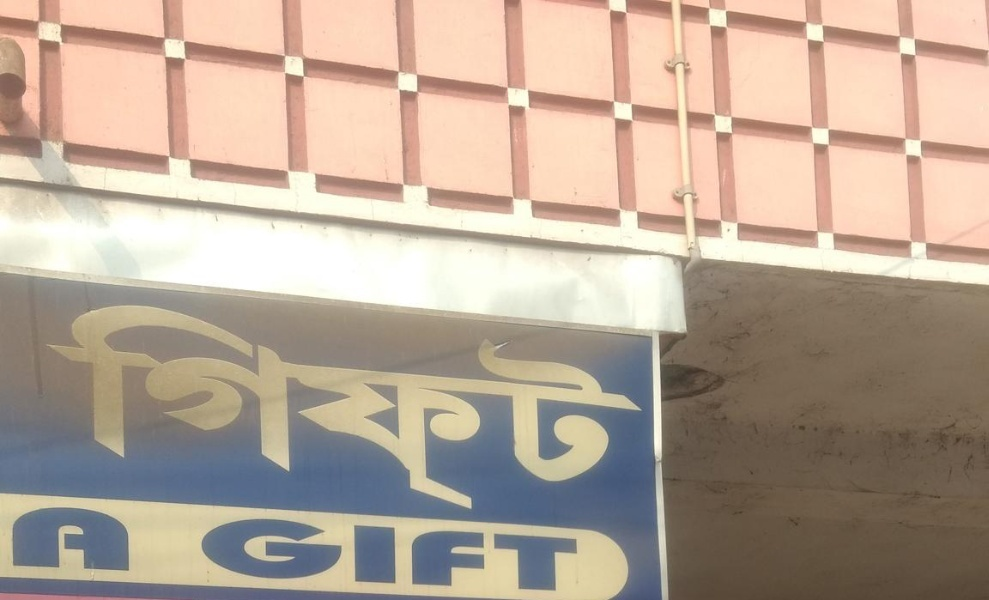text: (49, 291, 64, 524), (65, 291, 80, 524), (81, 291, 96, 524), (97, 291, 112, 524), (113, 291, 128, 524), (129, 291, 144, 524), (145, 291, 160, 524), (161, 291, 176, 524), (177, 291, 192, 524), (193, 291, 208, 524), (209, 291, 224, 524), (225, 291, 240, 524), (241, 291, 256, 524), (257, 291, 272, 524), (273, 291, 288, 524), (289, 291, 304, 524), (305, 291, 320, 524), (321, 291, 336, 524), (337, 291, 352, 524), (353, 291, 368, 524), (369, 291, 384, 524), (385, 291, 400, 524), (401, 291, 416, 524), (417, 291, 432, 524), (433, 291, 448, 524), (449, 291, 464, 524), (465, 291, 480, 524), (481, 291, 496, 524), (497, 291, 512, 524), (513, 291, 528, 524), (529, 291, 544, 524), (545, 291, 560, 524), (561, 291, 576, 524), (577, 291, 592, 524), (593, 291, 608, 524), (609, 291, 624, 524), (625, 291, 640, 524), (641, 291, 656, 524), (1, 8, 16, 139), (17, 8, 32, 139), (33, 8, 44, 139), (209, 504, 224, 600), (225, 504, 240, 600), (241, 504, 256, 600), (257, 504, 272, 600), (273, 504, 288, 600), (289, 504, 304, 600), (305, 504, 320, 600), (321, 504, 336, 600), (337, 504, 352, 600), (353, 504, 368, 600), (369, 504, 384, 600), (385, 504, 400, 600), (401, 504, 416, 600), (417, 504, 432, 600), (433, 504, 448, 600), (449, 504, 464, 600), (465, 504, 480, 600), (481, 504, 496, 600), (497, 504, 512, 600), (513, 504, 528, 600), (529, 504, 544, 600), (545, 504, 560, 600), (561, 504, 576, 600), (42, 291, 48, 524), (17, 502, 32, 576), (33, 502, 48, 576), (49, 502, 64, 576), (65, 502, 80, 576), (81, 502, 96, 576), (97, 502, 112, 576), (113, 502, 128, 576), (577, 504, 584, 600), (129, 502, 138, 576), (9, 502, 16, 576), (203, 504, 208, 600)
